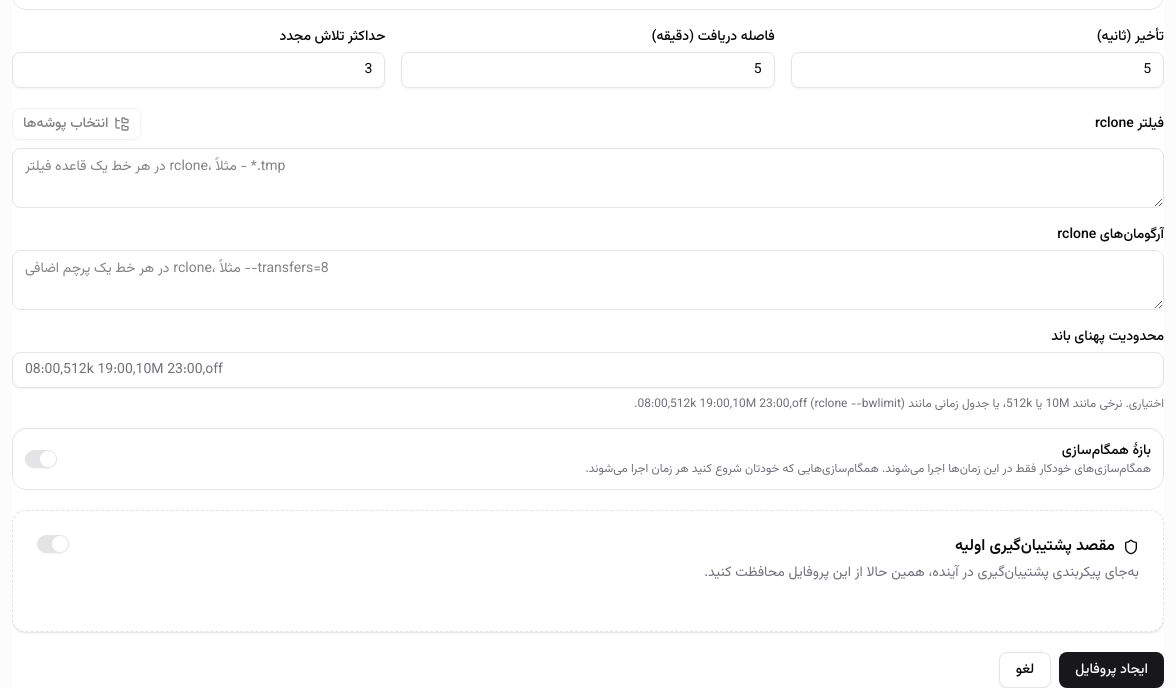
Test case: ProfileForm initial backup target › shows the backup errors in Persian
(page scrolled)
Click the switch named "مقصد پشتیبان‌گیری اولیه": (53, 544) [37,535,69,553]
(page scrolled)
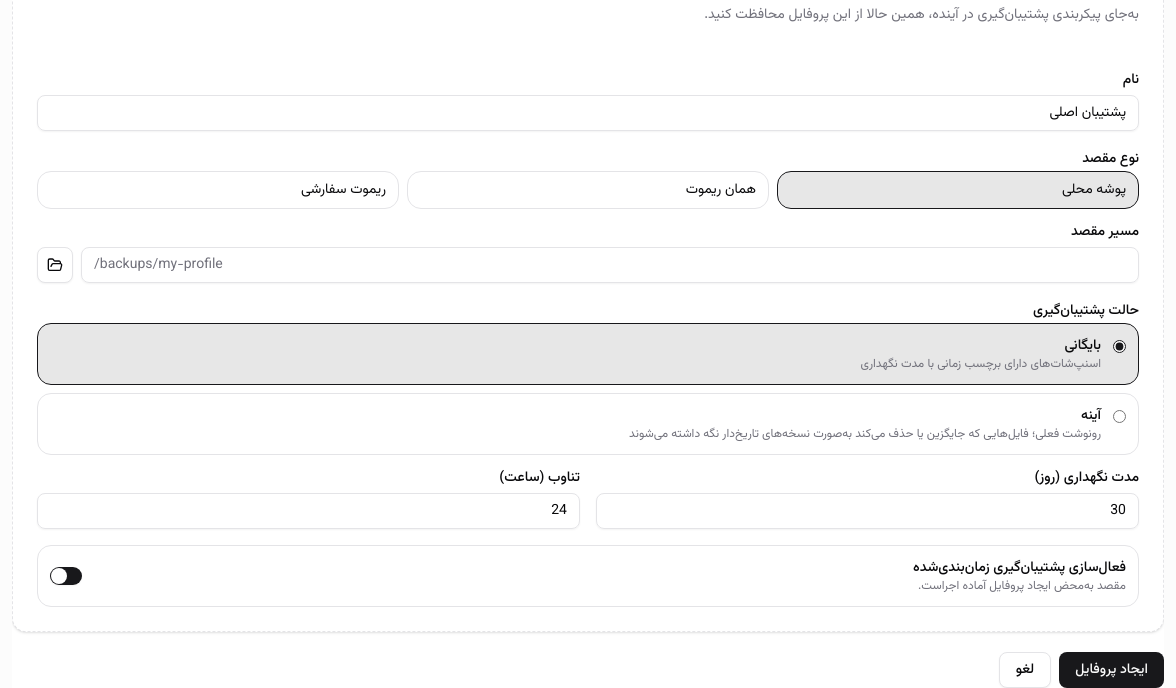
Click the button "ایجاد پروفایل": (1112, 670) [1059,652,1164,687]
(page scrolled)
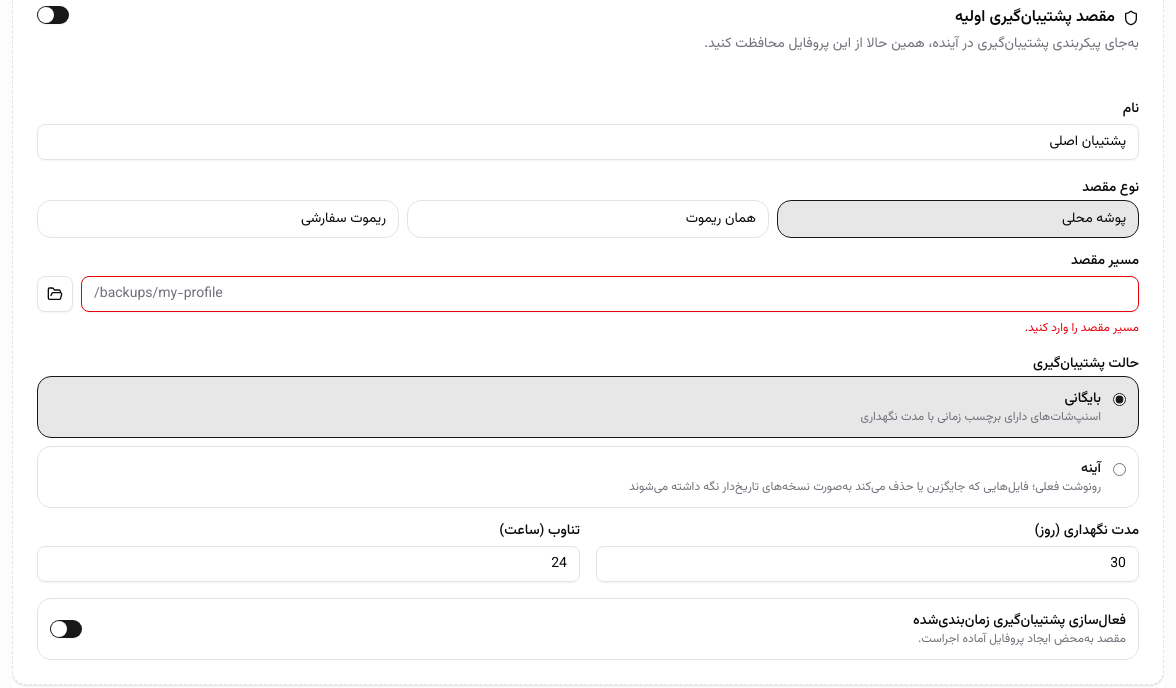
Now the text "مسیر مقصد را وارد کنید." is shown, box [1025,319,1139,337]
